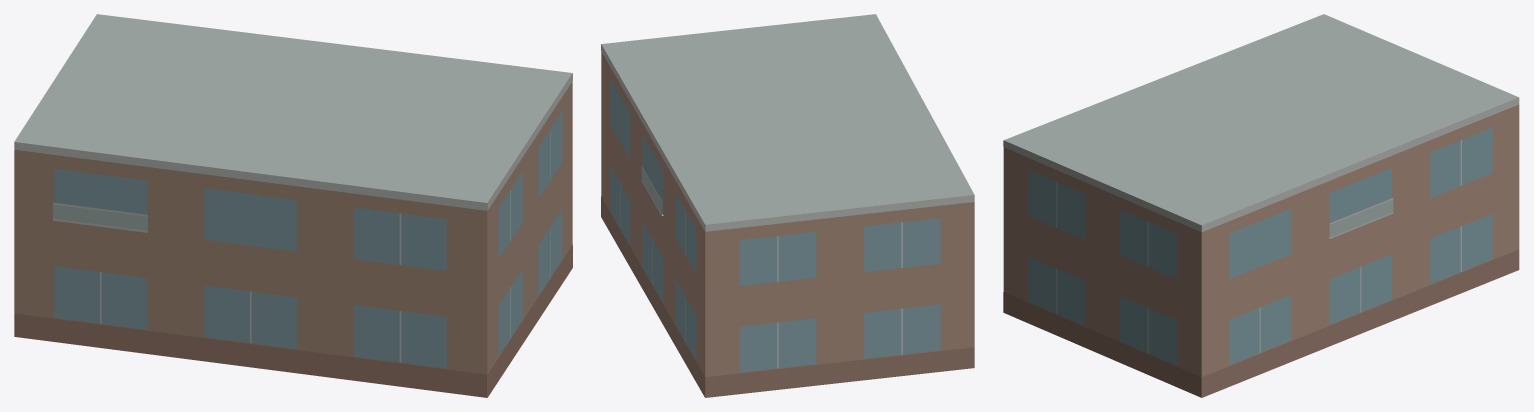
File: survey-upis-32661022.glb
The picture shows the model from 3 angles, left to right: view 1: azimuth 30°, elevation 25°; view 2: azimuth 150°, elevation 25°; view 3: azimuth 270°, elevation 25°; orthographic projection. The views are drawn at different scales.
Parts seen in each view (by area): view 1: survey-upis-32661022.tmp; view 2: survey-upis-32661022.tmp; view 3: survey-upis-32661022.tmp.
Part boxes in pixels (x1,y1,x2,y2): survey-upis-32661022.tmp: (14, 14, 572, 397); survey-upis-32661022.tmp: (601, 14, 974, 397); survey-upis-32661022.tmp: (1003, 14, 1519, 397).
Bounding box in the file's own units: 16.05 × 6.1 × 16.54.
